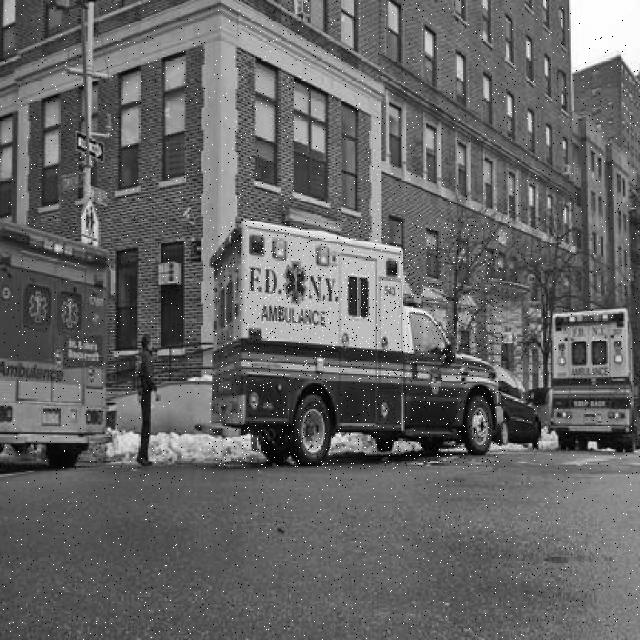Ambulance: (210, 221, 503, 468)
